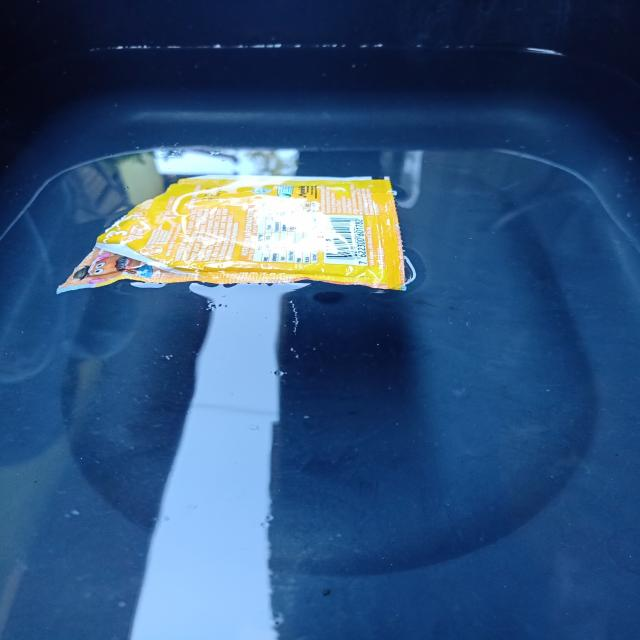Plastic Wrapper: (59, 176, 405, 290)
